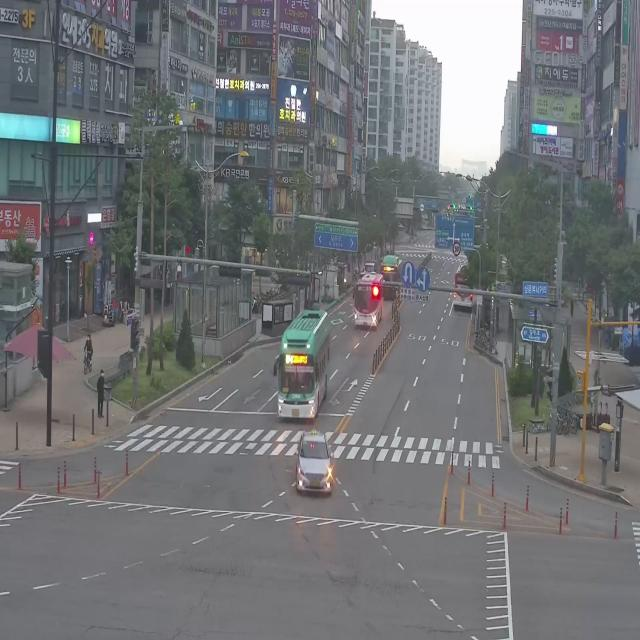Bus: (273, 306, 332, 428), (352, 267, 384, 337), (449, 264, 475, 312), (381, 255, 404, 302)
Car: (295, 428, 333, 496)
